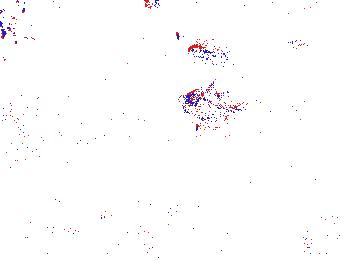X-ray fish: (177, 80, 244, 121)
red belly glassfish: (262, 37, 310, 58), (188, 42, 233, 64)
